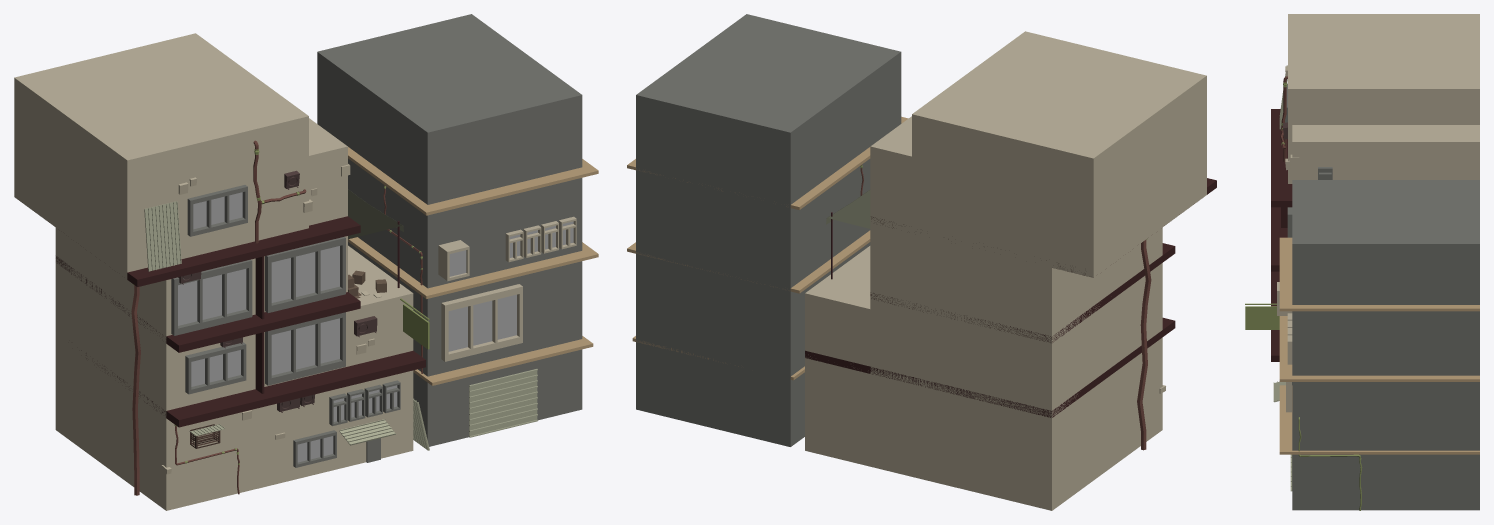
The model's file is APARTMENT_otherbuildings2.fbx.
3 views of the same model, side by side, from view 1: azimuth 30°, elevation 25°; view 2: azimuth 150°, elevation 25°; view 3: azimuth 270°, elevation 25° (orthographic). The views are drawn at different scales.
Parts seen in each view (by area): view 1: areaLight3; view 2: areaLight3; view 3: areaLight3.
Boxes of the visible parts, x1,y1,x2,y2 form: areaLight3: [14, 14, 598, 510]; areaLight3: [627, 14, 1216, 510]; areaLight3: [1245, 14, 1479, 510].
Bounding box in the file's own units: 177 × 132 × 91.03.
